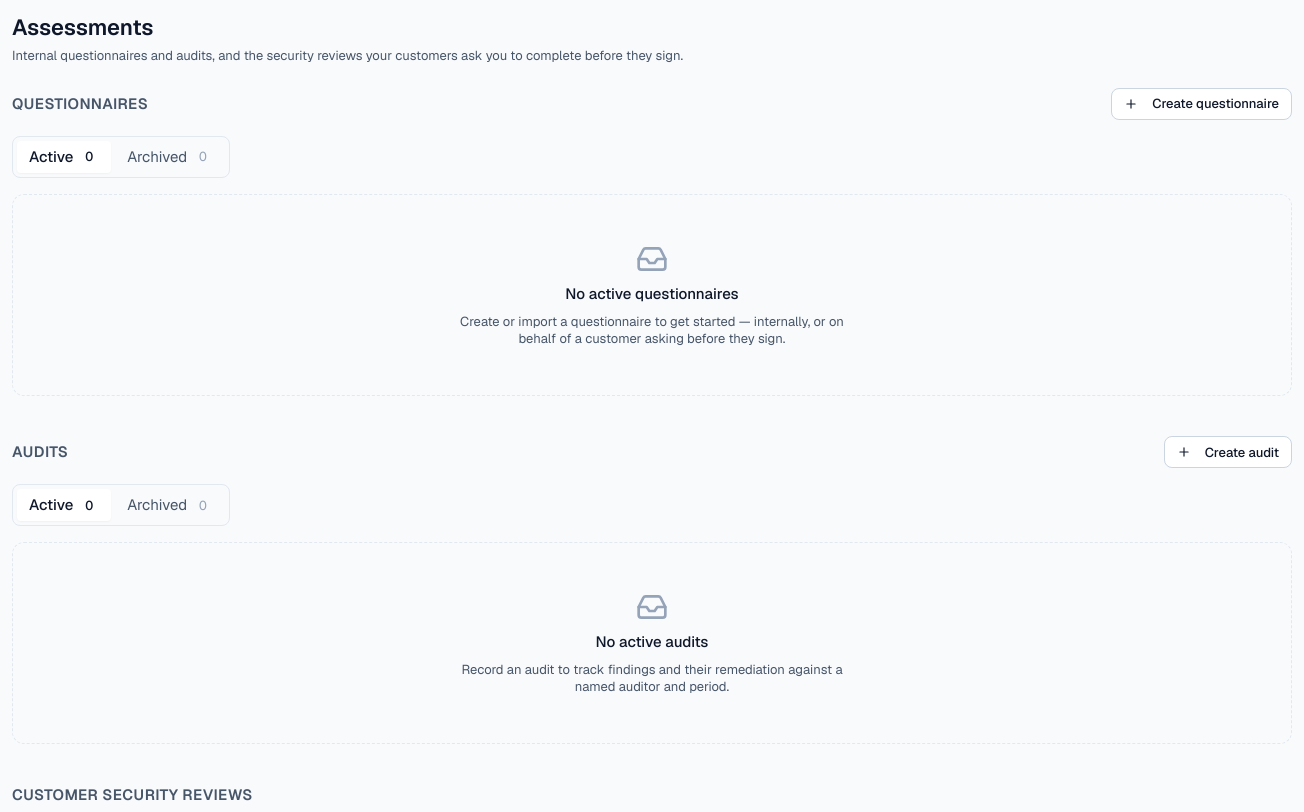
Test: Questionnaires › says when a title reads like one of the questions
Click the button "Create questionnaire" at (1202, 104), box [1111, 88, 1292, 120]
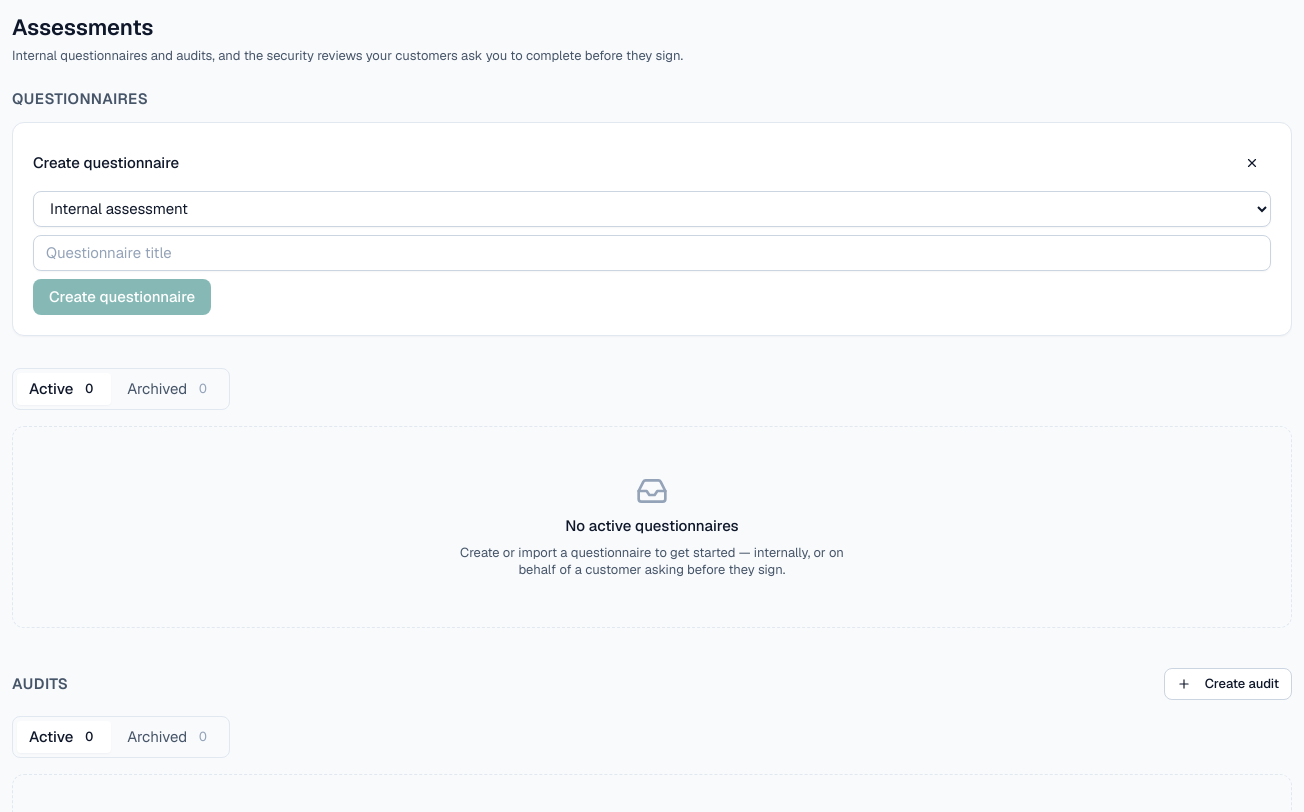
Type "Do you encrypt customer data at rest?" into the field with placeholder "Questionnaire title" at (652, 252), box [33, 234, 1271, 270]
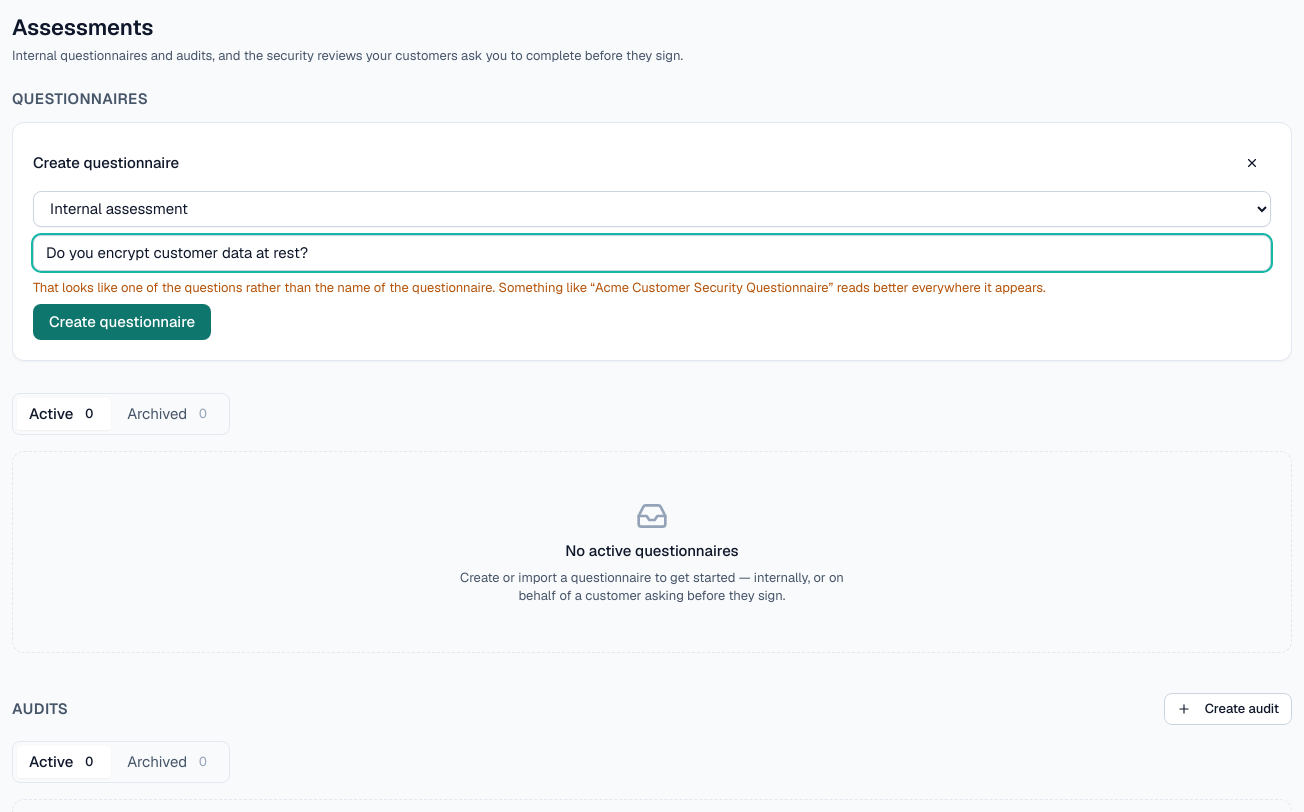
Expected: the text "looks like one of the questions" is shown, [33, 278, 595, 296]
Expected: the button "Create questionnaire" is enabled, [33, 304, 211, 340]
